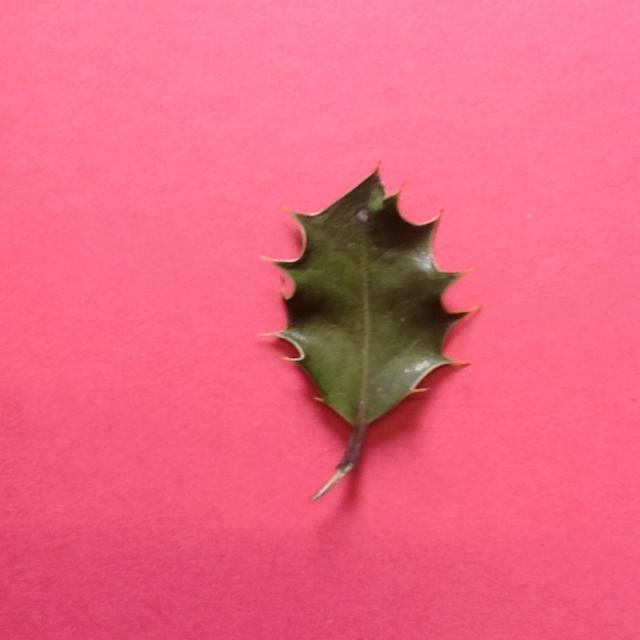foliage: (258, 157, 477, 508)
